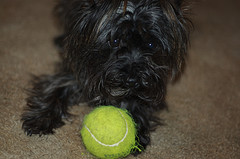tennis ball: (79, 102, 141, 159)
